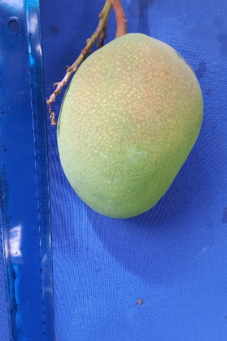Mango-sano: (57, 33, 202, 218)
